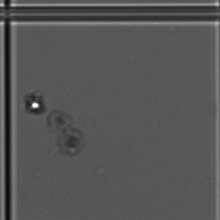Dead Cell: (58, 122, 88, 159), (49, 108, 73, 129)
Living Cell: (21, 93, 43, 114)
